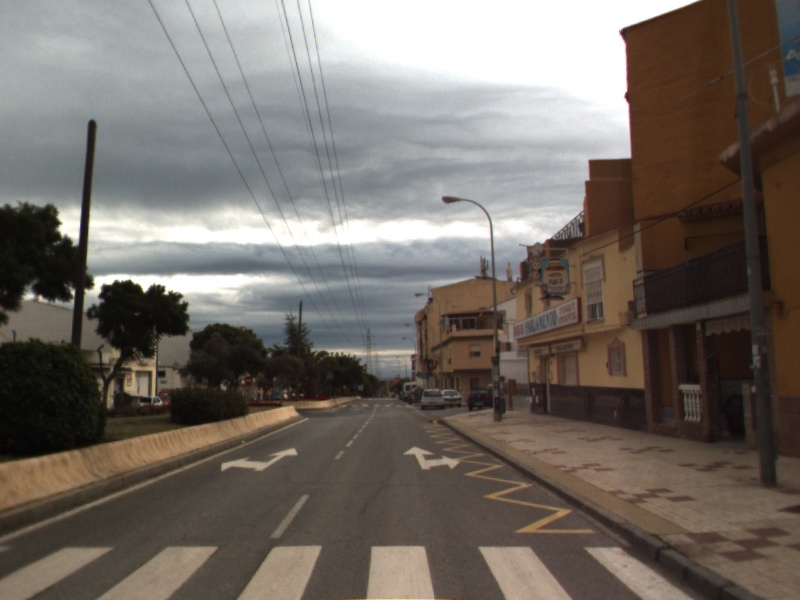STRAIGHT_LEFT: (219, 445, 300, 473)
STRAIGHT_RIGHT: (401, 444, 462, 472)
